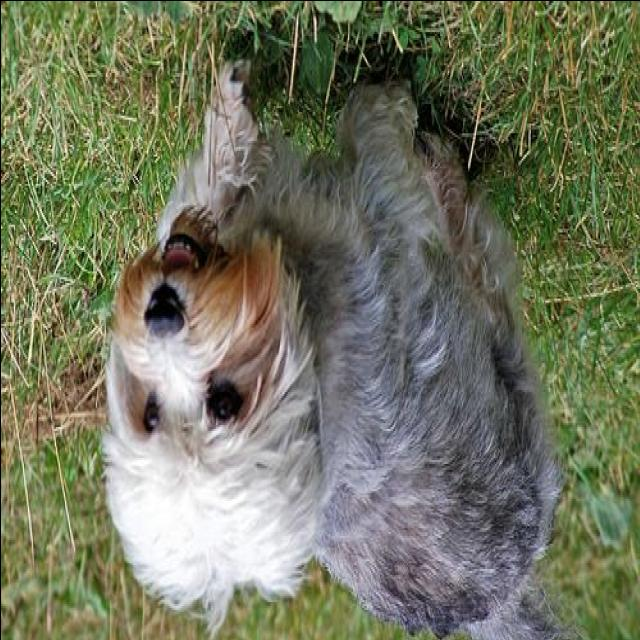dandie_dinmont: (100, 43, 589, 640)
